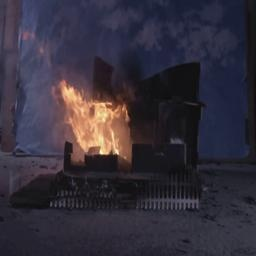fire: (51, 72, 139, 163)
